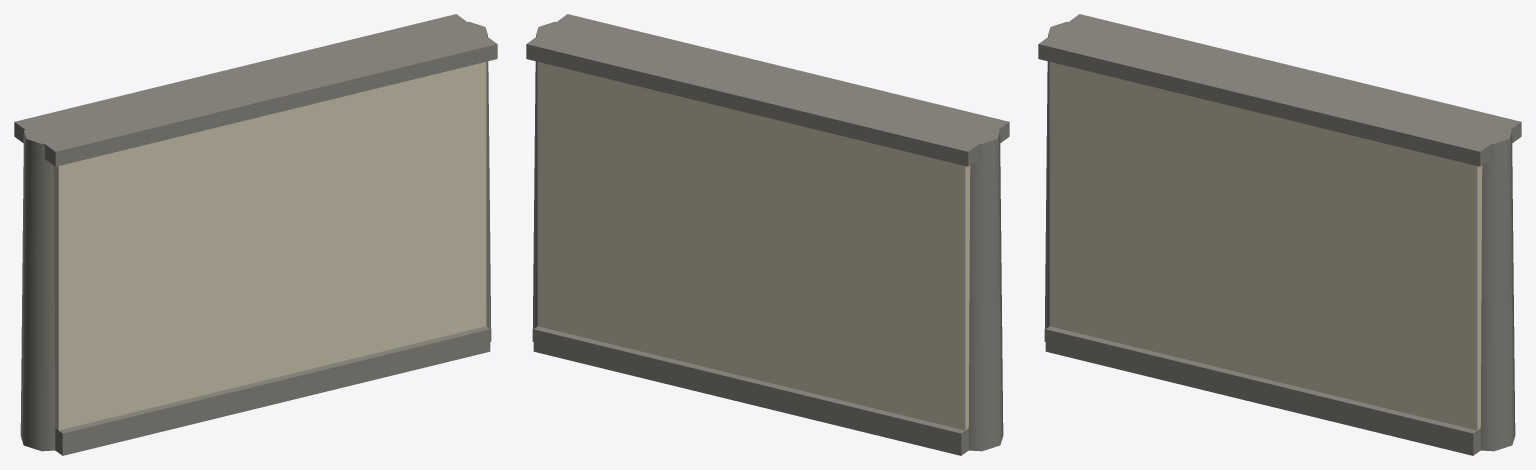
The model's file is stone-wall-lod1.glb.
3 views of the same model, side by side, from view 1: azimuth 30°, elevation 25°; view 2: azimuth 150°, elevation 25°; view 3: azimuth 330°, elevation 25° (orthographic).
Visible parts, largest first — view 1: body, coping, footing, pier (×2); view 2: body, coping, footing, pier (×2); view 3: body, coping, footing, pier (×2).
Part boxes in pixels (left/top/right/bottom): body: left=53, top=62, right=486, bottom=430; coping: left=14, top=14, right=497, bottom=166; footing: left=55, top=326, right=490, bottom=455; pier (×2): left=20, top=21, right=491, bottom=451; body: left=537, top=62, right=970, bottom=430; coping: left=526, top=14, right=1009, bottom=166; footing: left=533, top=326, right=968, bottom=455; pier (×2): left=532, top=21, right=1003, bottom=451; body: left=1049, top=62, right=1482, bottom=430; coping: left=1038, top=14, right=1521, bottom=166; footing: left=1045, top=326, right=1480, bottom=455; pier (×2): left=1044, top=21, right=1515, bottom=451.
Size of the model in its own units: 3.26 by 2.05 by 0.5.
